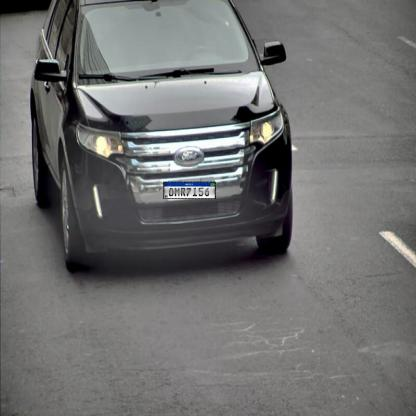PlacaM: (163, 182, 216, 199)
